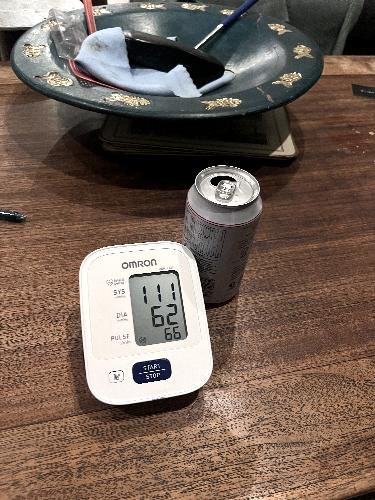bpm: (127, 267, 190, 348)
